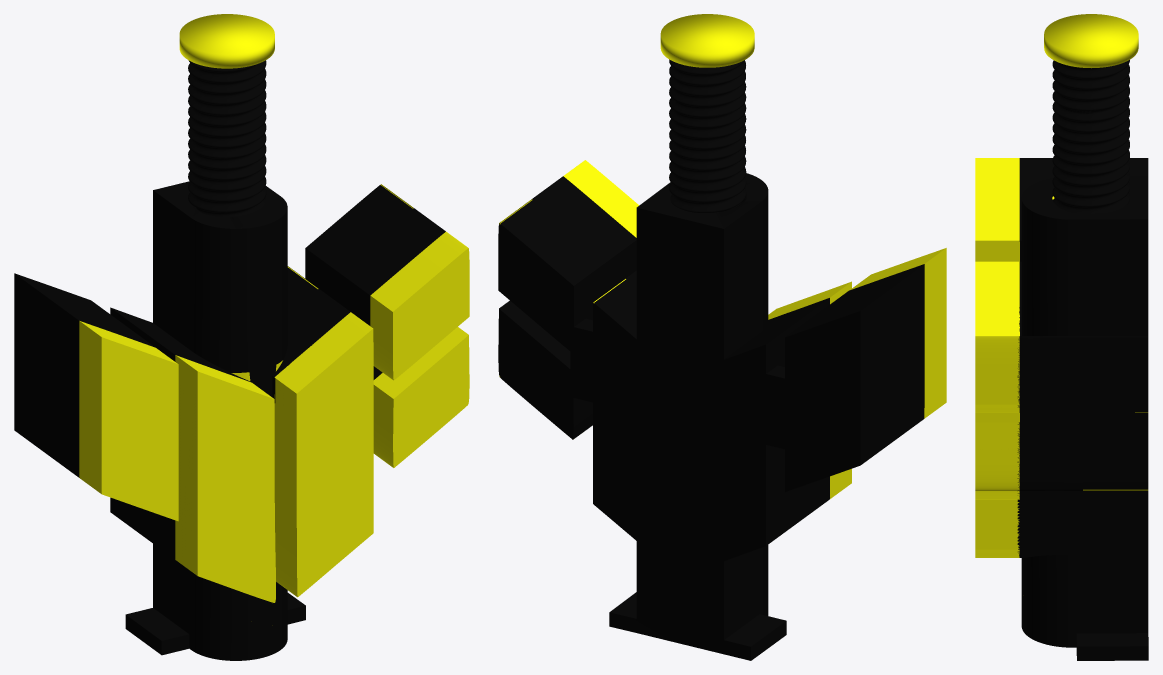
The model's file is GPUTUFHOLDER.glb.
The picture shows the model from 3 angles, left to right: view 1: azimuth 30°, elevation 25°; view 2: azimuth 150°, elevation 25°; view 3: azimuth 270°, elevation 25°; orthographic projection.
Visible parts, largest first — view 1: 3MF Object.001, 3MF Object; view 2: 3MF Object.001, 3MF Object; view 3: 3MF Object.001, 3MF Object.
Boxes of the visible parts, <box> form: 3MF Object.001: <box>14,181,469,660</box>; 3MF Object: <box>179,14,274,216</box>; 3MF Object.001: <box>498,160,946,660</box>; 3MF Object: <box>660,14,754,212</box>; 3MF Object.001: <box>975,158,1148,660</box>; 3MF Object: <box>1044,14,1138,213</box>.
Size of the model in its own units: 0.0535 by 0.0831 by 0.022.
